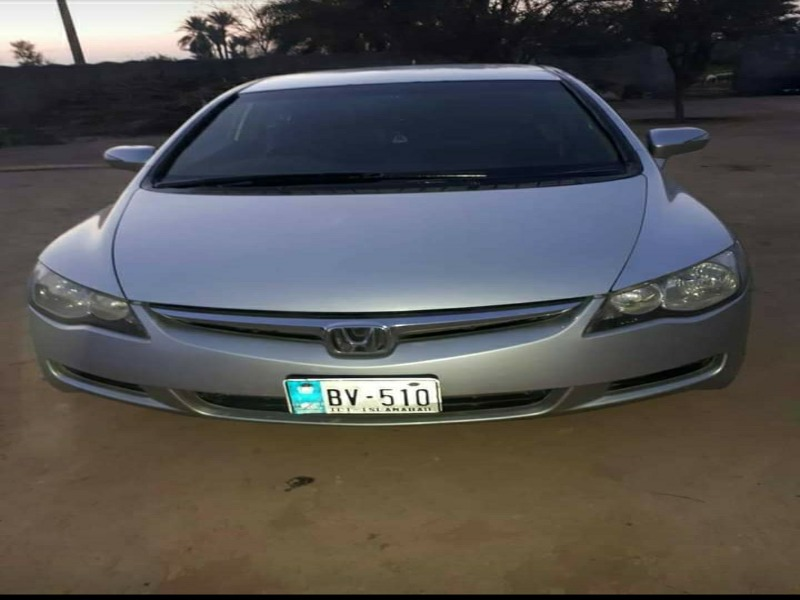License Plate: (278, 373, 446, 421)
